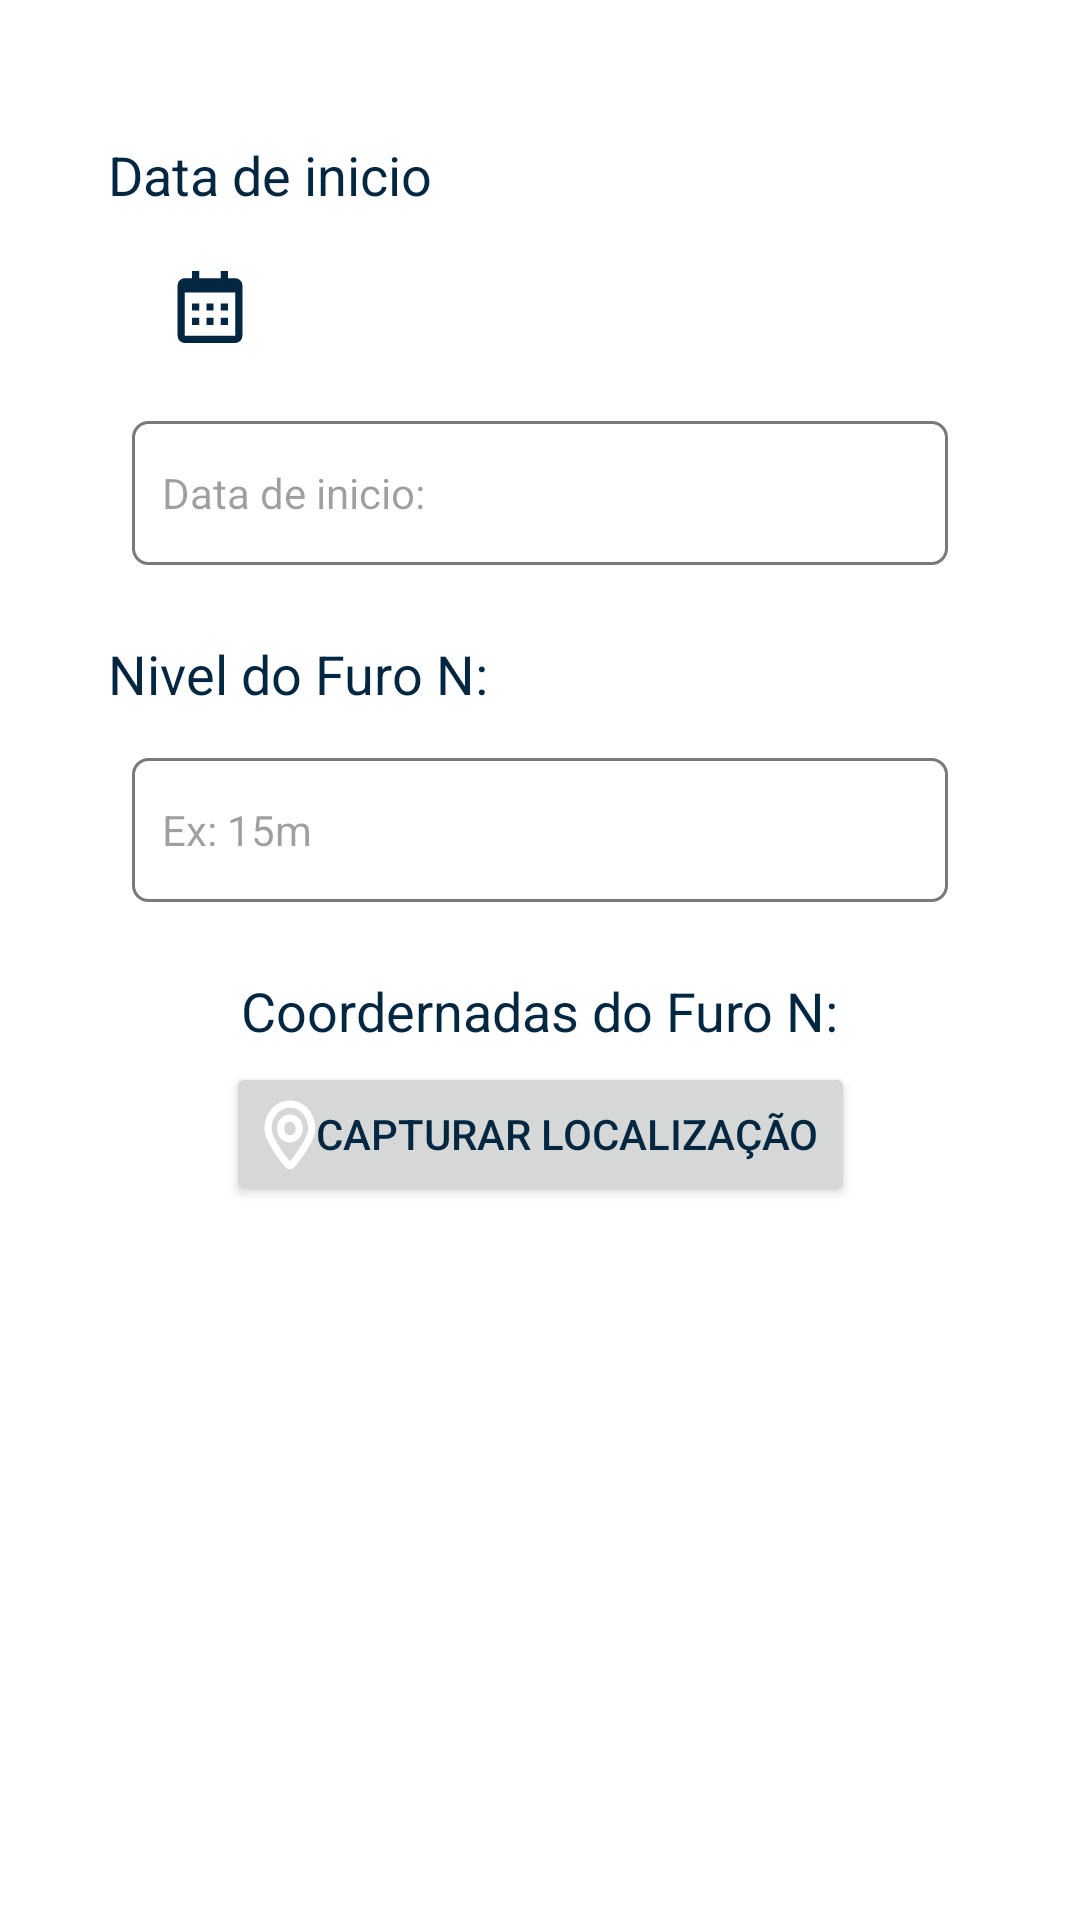

Named icons in this screenshot (1080 × 1920) and their bounding boxes, [x1,y1,x2,y2]:
date: [177,271,243,343]
